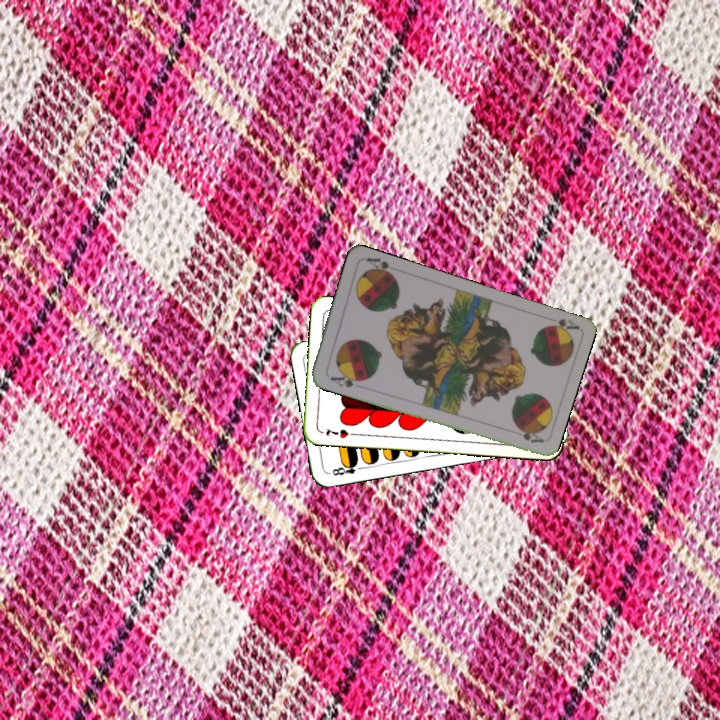E8: (328, 458, 366, 478)
H7: (322, 424, 358, 441)
SA: (324, 369, 365, 390), (542, 315, 581, 336)
